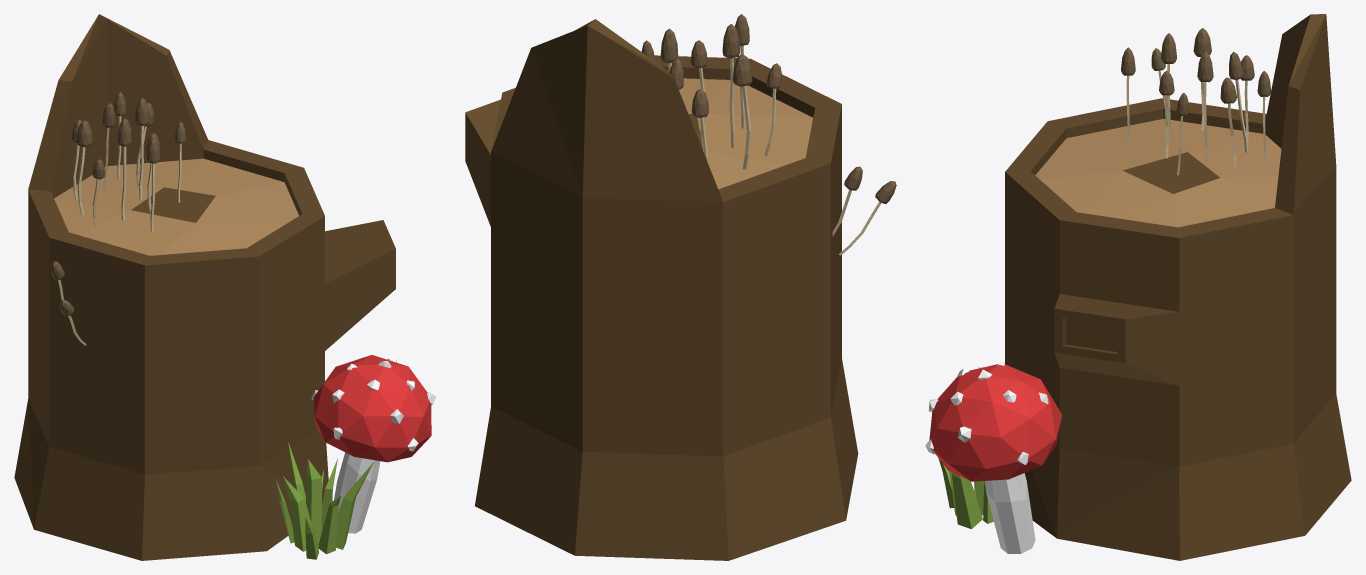
Rendered from Stump_10.fbx.
The picture shows the model from 3 angles, left to right: view 1: azimuth 30°, elevation 25°; view 2: azimuth 150°, elevation 25°; view 3: azimuth 270°, elevation 25°; orthographic projection. The views are drawn at different scales.
Parts seen in each view (by area): view 1: Stump_10; view 2: Stump_10; view 3: Stump_10.
Part boxes in pixels (x1,y1,x2,y2): Stump_10: (14, 14, 436, 560); Stump_10: (465, 14, 896, 560); Stump_10: (925, 14, 1351, 560).
Bounding box in the file's own units: 59.6 × 73.58 × 59.52.
